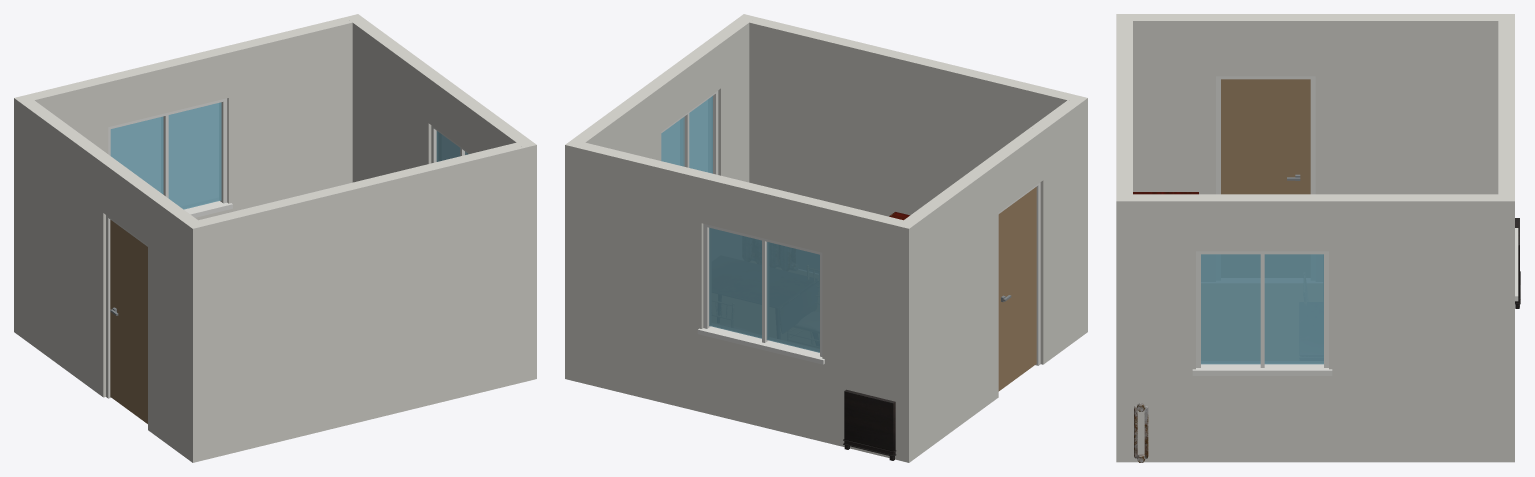
File: layoutgpt.glb
3 renders of one model, left to right at view 1: azimuth 30°, elevation 25°; view 2: azimuth 150°, elevation 25°; view 3: azimuth 270°, elevation 25°, orthographic. The views are drawn at different scales.
Visible parts, largest first — view 1: wall|scenesmith_057__R00|0, wall|scenesmith_057__R00|2, wall|scenesmith_057__R00|1, wall|scenesmith_057__R00|3, wall|scenesmith_057__R00|1 Window 0 | glazing, wall|scenesmith_057__R00|2 Door 0 | wood leaf, wall|scenesmith_057__R00|1 Window 0 | jamb, wall|scenesmith_057__R00|2 Door 0 | jamb; view 2: wall|scenesmith_057__R00|1, wall|scenesmith_057__R00|0, wall|scenesmith_057__R00|2, wall|scenesmith_057__R00|3, wall|scenesmith_057__R00|1 Window 0 | glazing, wall|scenesmith_057__R00|2 Door 0 | wood leaf, wall|scenesmith_057__R00|1 Window 0 | jamb, raw_model.003, wall|scenesmith_057__R00|3 Window 0 | glazing, wall|scenesmith_057__R00|2 Door 0 | jamb, wall|scenesmith_057__R00|3 Window 0 | jamb; view 3: wall|scenesmith_057__R00|3, wall|scenesmith_057__R00|2, wall|scenesmith_057__R00|3 Window 0 | glazing, wall|scenesmith_057__R00|2 Door 0 | wood leaf, wall|scenesmith_057__R00|0, wall|scenesmith_057__R00|1, wall|scenesmith_057__R00|3 Window 0 | jamb, wall|scenesmith_057__R00|2 Door 0 | jamb, scenesmith_057__R00_9.
Boxes of the visible parts, x1=… form: wall|scenesmith_057__R00|0: x1=185, y1=142, x2=536, y2=462; wall|scenesmith_057__R00|2: x1=14, y1=98, x2=205, y2=462; wall|scenesmith_057__R00|1: x1=14, y1=17, x2=352, y2=220; wall|scenesmith_057__R00|3: x1=345, y1=14, x2=536, y2=379; wall|scenesmith_057__R00|1 Window 0 | glazing: x1=110, y1=102, x2=221, y2=209; wall|scenesmith_057__R00|2 Door 0 | wood leaf: x1=110, y1=220, x2=147, y2=423; wall|scenesmith_057__R00|1 Window 0 | jamb: x1=108, y1=98, x2=232, y2=217; wall|scenesmith_057__R00|2 Door 0 | jamb: x1=106, y1=215, x2=147, y2=398; wall|scenesmith_057__R00|1: x1=578, y1=142, x2=916, y2=459; wall|scenesmith_057__R00|0: x1=749, y1=17, x2=1087, y2=216; wall|scenesmith_057__R00|2: x1=896, y1=98, x2=1087, y2=462; wall|scenesmith_057__R00|3: x1=565, y1=14, x2=756, y2=381; wall|scenesmith_057__R00|1 Window 0 | glazing: x1=709, y1=227, x2=819, y2=352; wall|scenesmith_057__R00|2 Door 0 | wood leaf: x1=998, y1=187, x2=1036, y2=391; wall|scenesmith_057__R00|1 Window 0 | jamb: x1=697, y1=223, x2=824, y2=364; raw_model.003: x1=843, y1=389, x2=896, y2=460; wall|scenesmith_057__R00|3 Window 0 | glazing: x1=661, y1=96, x2=712, y2=173; wall|scenesmith_057__R00|2 Door 0 | jamb: x1=998, y1=182, x2=1040, y2=365; wall|scenesmith_057__R00|3 Window 0 | jamb: x1=661, y1=90, x2=718, y2=174; wall|scenesmith_057__R00|3: x1=1116, y1=194, x2=1514, y2=462; wall|scenesmith_057__R00|2: x1=1133, y1=14, x2=1498, y2=194; wall|scenesmith_057__R00|3 Window 0 | glazing: x1=1201, y1=254, x2=1323, y2=364; wall|scenesmith_057__R00|2 Door 0 | wood leaf: x1=1221, y1=79, x2=1310, y2=194; wall|scenesmith_057__R00|0: x1=1116, y1=14, x2=1132, y2=462; wall|scenesmith_057__R00|1: x1=1498, y1=14, x2=1514, y2=462; wall|scenesmith_057__R00|3 Window 0 | jamb: x1=1192, y1=251, x2=1332, y2=375; wall|scenesmith_057__R00|2 Door 0 | jamb: x1=1216, y1=76, x2=1315, y2=194; scenesmith_057__R00_9: x1=1134, y1=403, x2=1148, y2=462.
Size of the model in its own units: 4.05 by 2.61 by 3.65.
Materials: 17 (10 with a texture image).
